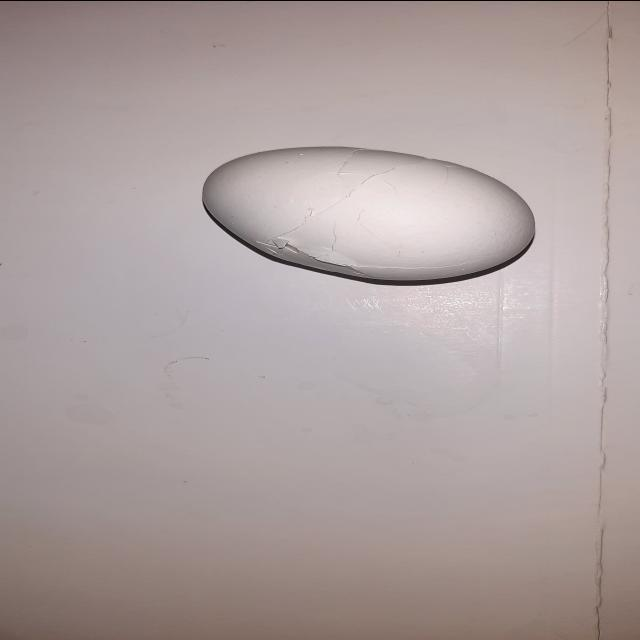egg shell: (193, 144, 542, 286)
